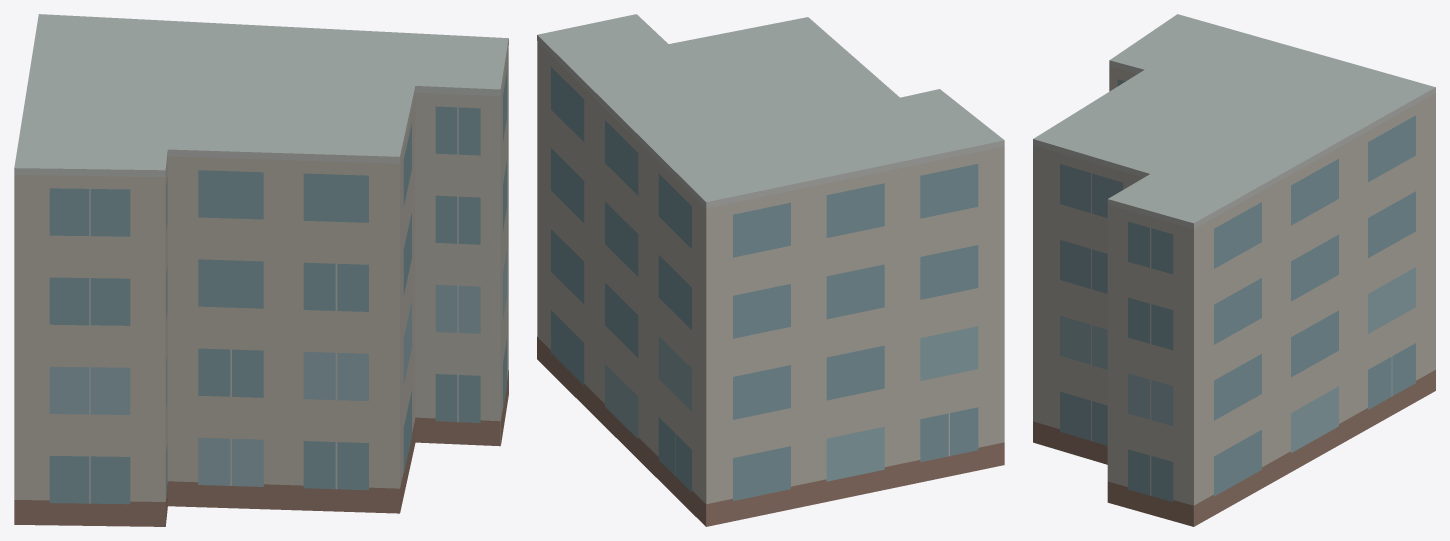
Rendered from survey-upis-32932868.glb.
3 renders of one model, left to right at view 1: azimuth 30°, elevation 25°; view 2: azimuth 150°, elevation 25°; view 3: azimuth 270°, elevation 25°, orthographic. The views are drawn at different scales.
Visible parts, largest first — view 1: survey-upis-32932868.tmp; view 2: survey-upis-32932868.tmp; view 3: survey-upis-32932868.tmp.
Boxes of the visible parts, x1=… form: survey-upis-32932868.tmp: x1=14, y1=14, x2=508, y2=526; survey-upis-32932868.tmp: x1=537, y1=14, x2=1004, y2=526; survey-upis-32932868.tmp: x1=1033, y1=14, x2=1435, y2=526.
Size of the model in its own units: 18.94 by 12.8 by 15.4.
